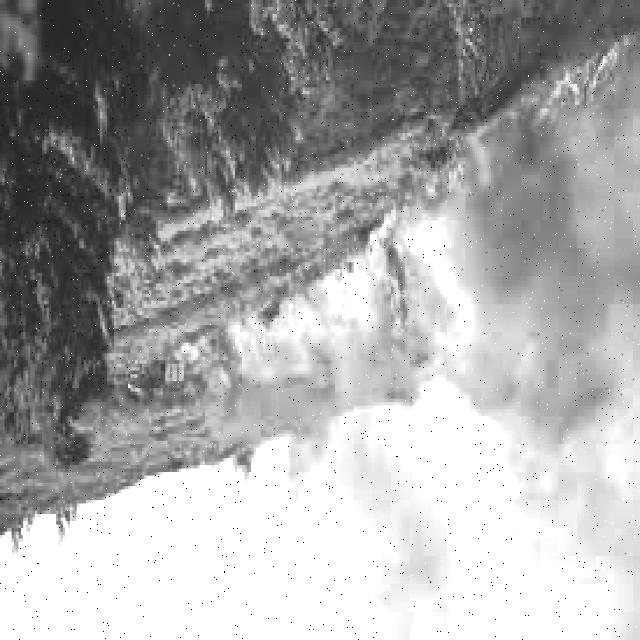api: (538, 44, 621, 122), (363, 202, 417, 316), (178, 329, 222, 380), (234, 315, 257, 361)
asap: (253, 389, 640, 640), (430, 179, 640, 390), (255, 271, 379, 392), (470, 121, 636, 186), (206, 382, 252, 545)
